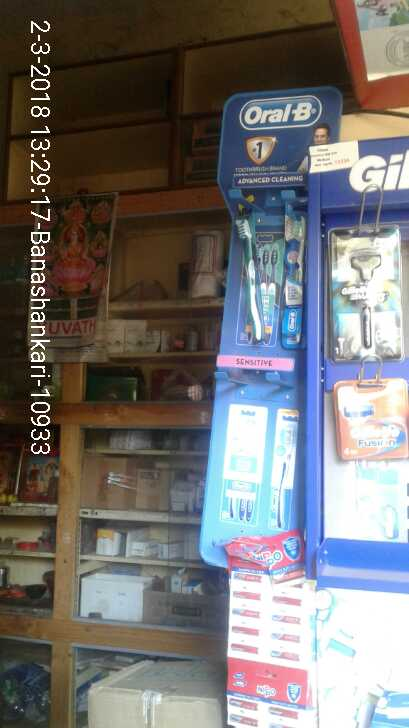beauty: (323, 222, 409, 365)
pharmacy: (225, 218, 301, 349)
